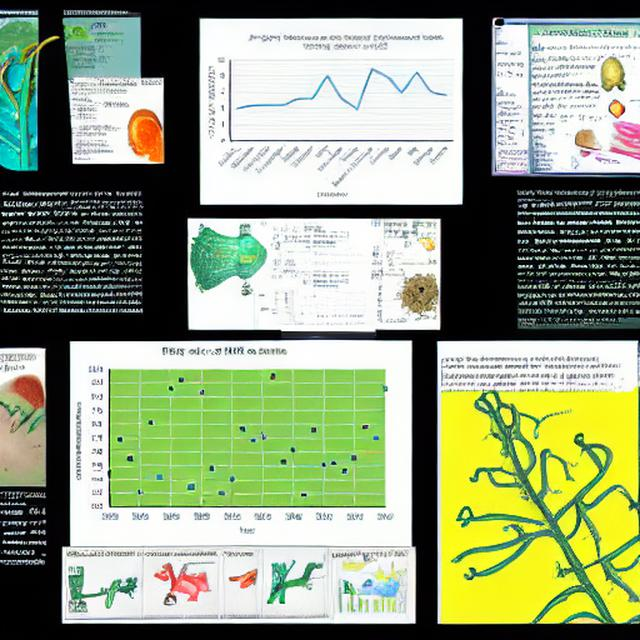Graph: (71, 342, 397, 541), (204, 30, 459, 201), (282, 279, 369, 330)
